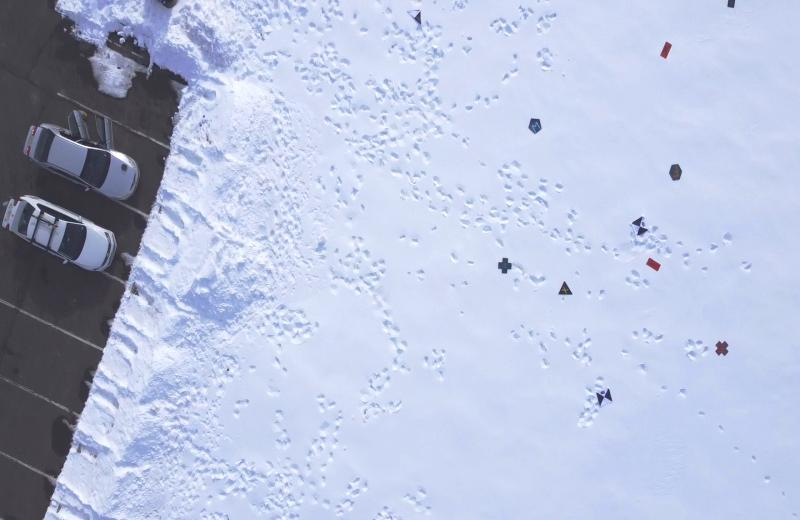Cross: (714, 339, 730, 358), (497, 256, 513, 274)
Hexagon: (667, 163, 683, 182)
Pentagon: (527, 115, 544, 136)
Rectangle: (658, 40, 674, 60), (646, 256, 662, 272)
Square: (726, 0, 736, 8)
Triangle: (558, 280, 574, 300)
